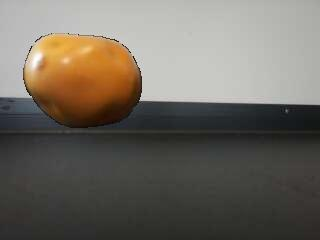Potato: (24, 33, 140, 128)
